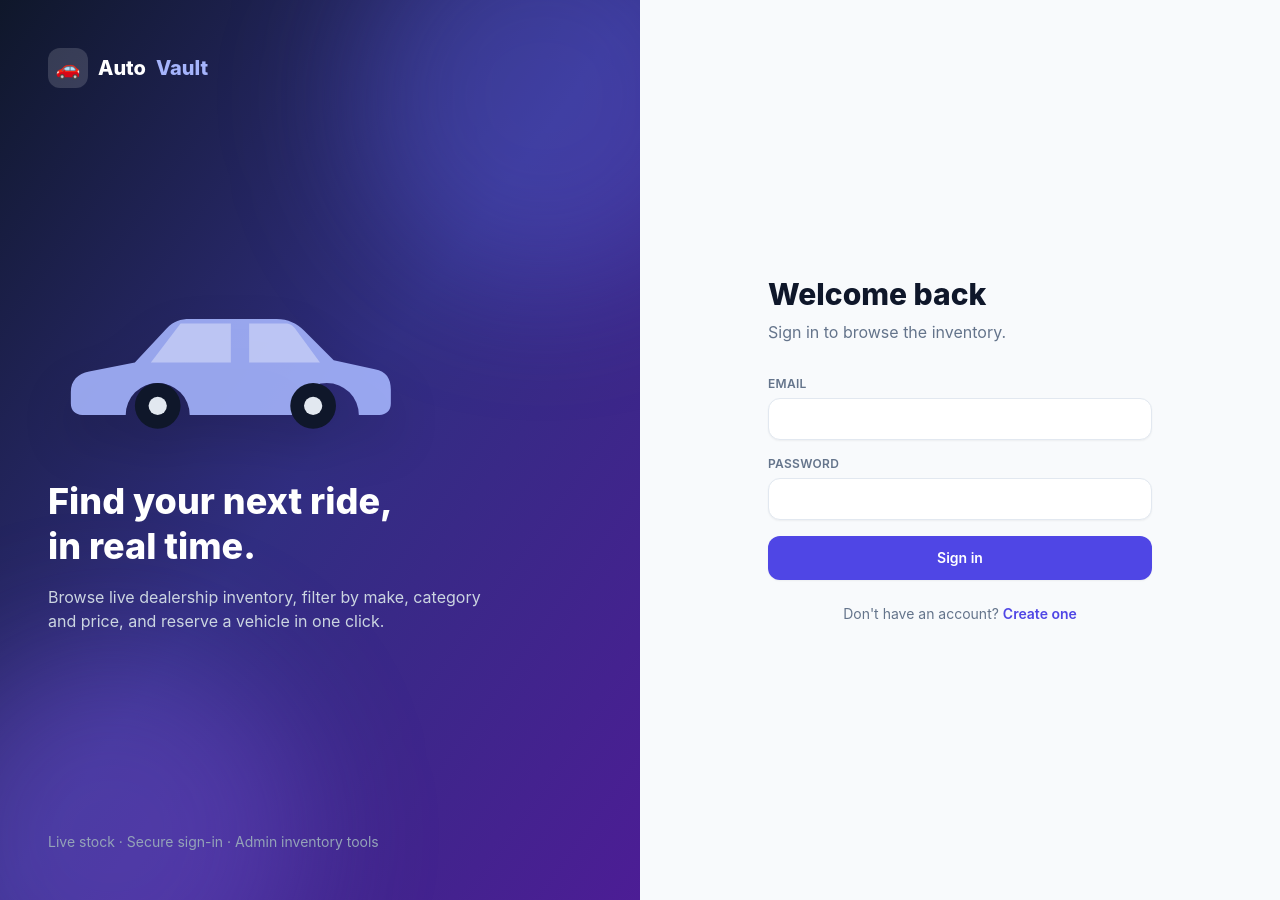
Test: <AuthPage /> › shows the API error message when login fails
The width and height of the screenshot is (1280, 900).
Type "a@b.co" into the field labelled "Email".
click(960, 419); type("a@b.co")  # box [768,398,1152,440]
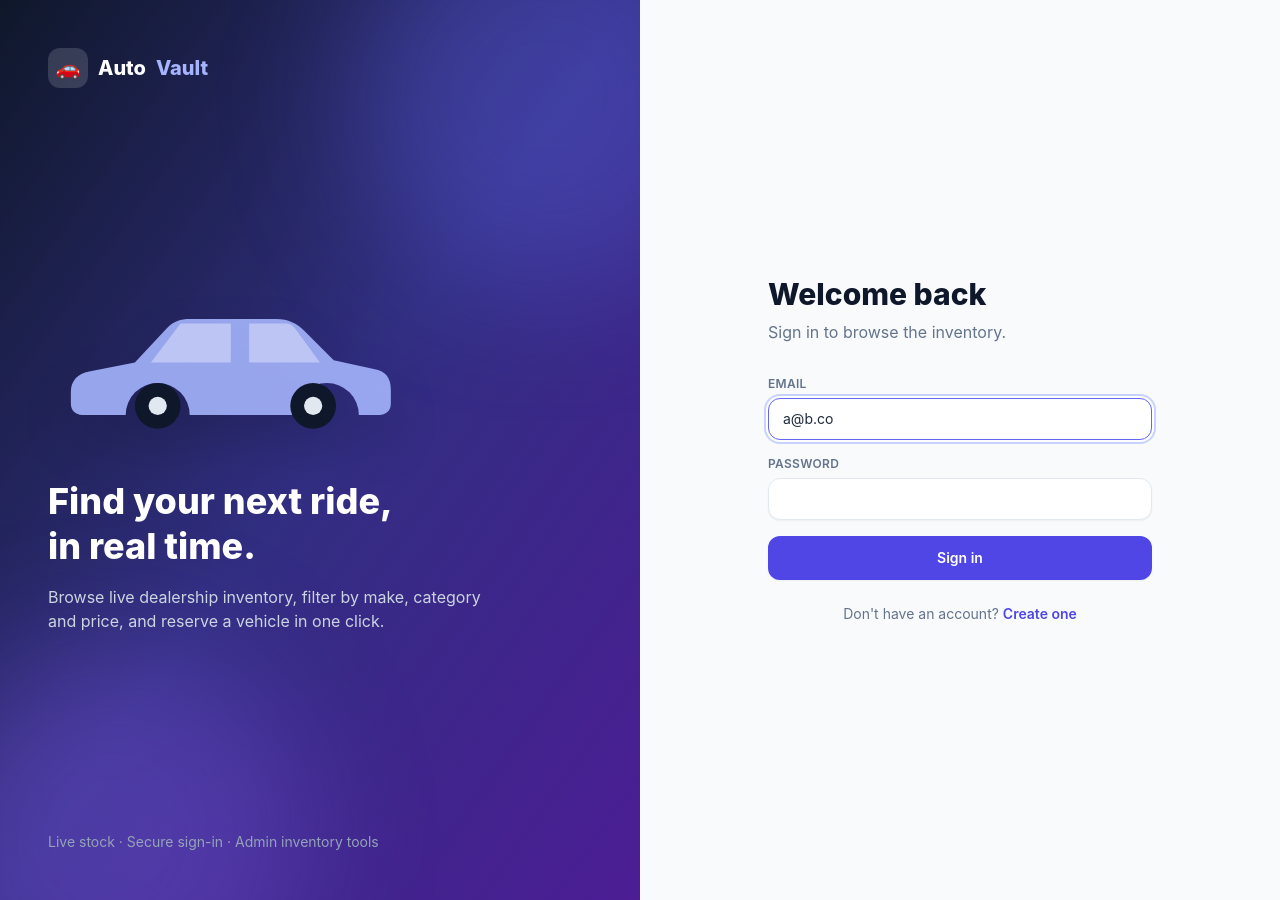
Type "WrongPass1" into the password field labelled "Password".
click(960, 499); type("WrongPass1")  # box [768,478,1152,520]
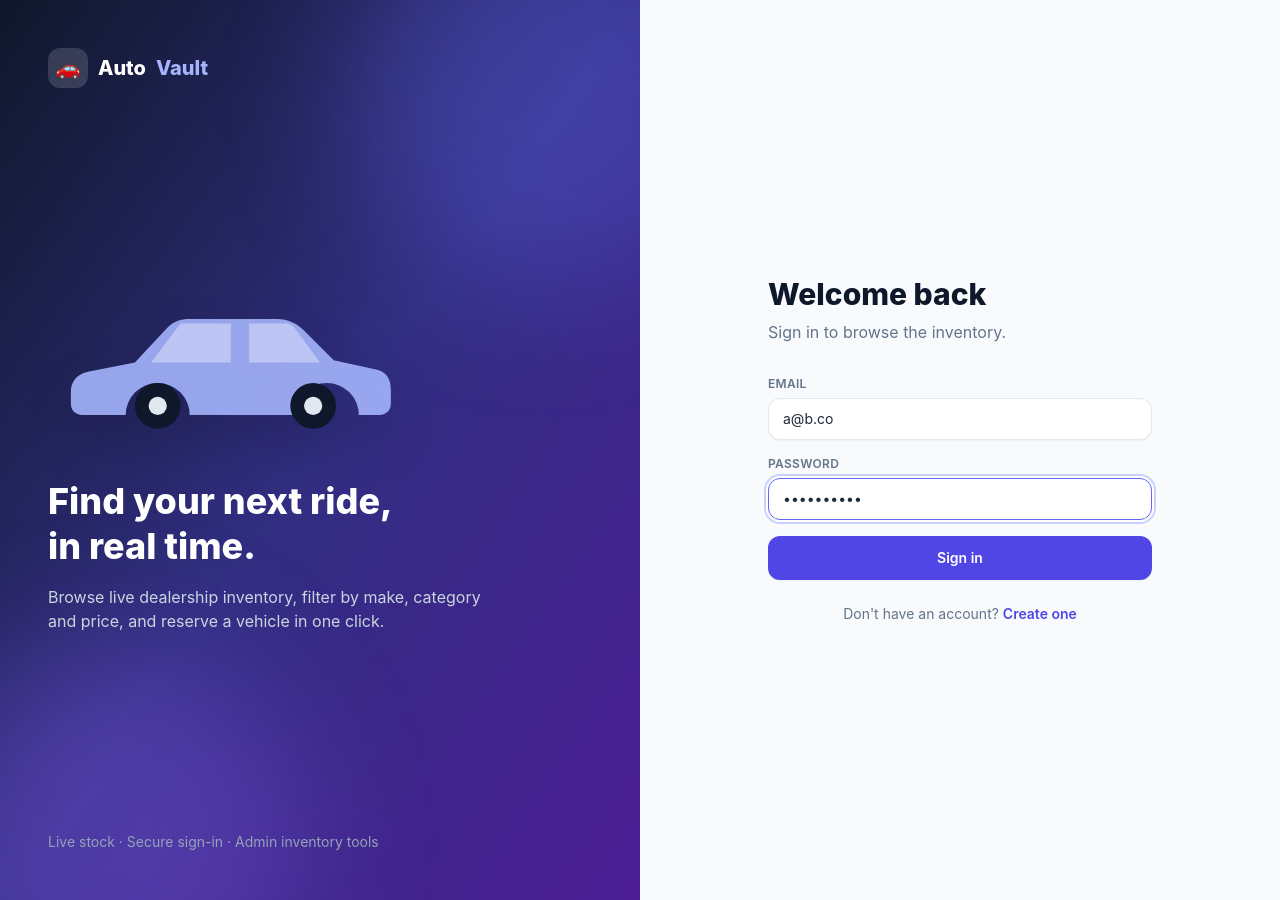
Click the button "Sign in".
click(960, 558)  # box [768,536,1152,580]
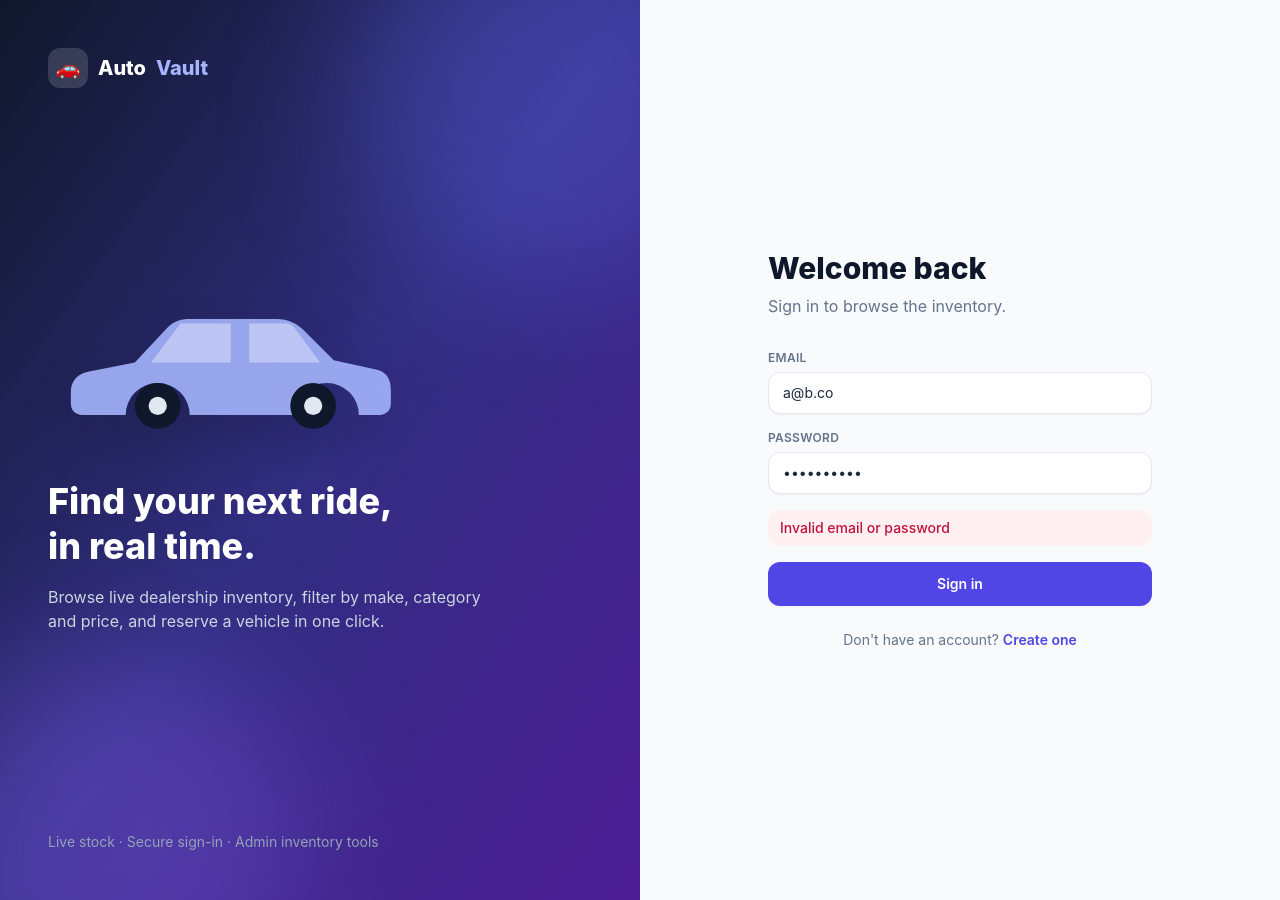
Expected: the message reads "Invalid email or password", [780,519,950,536]
